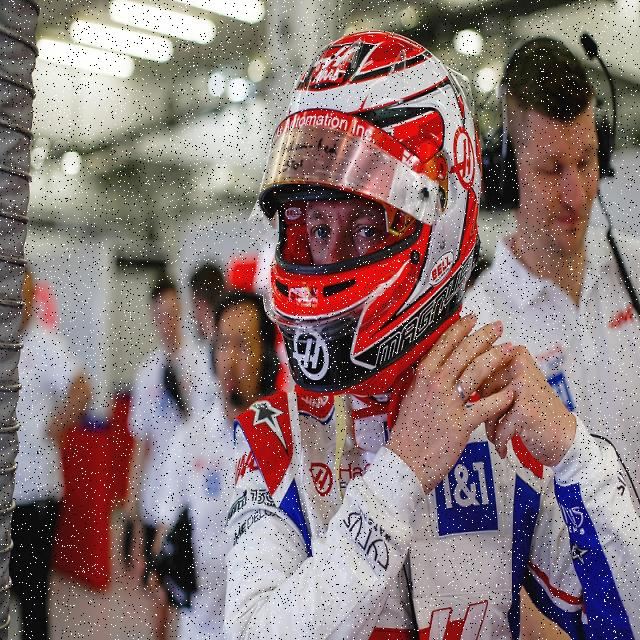Helmet: (259, 32, 480, 395)
